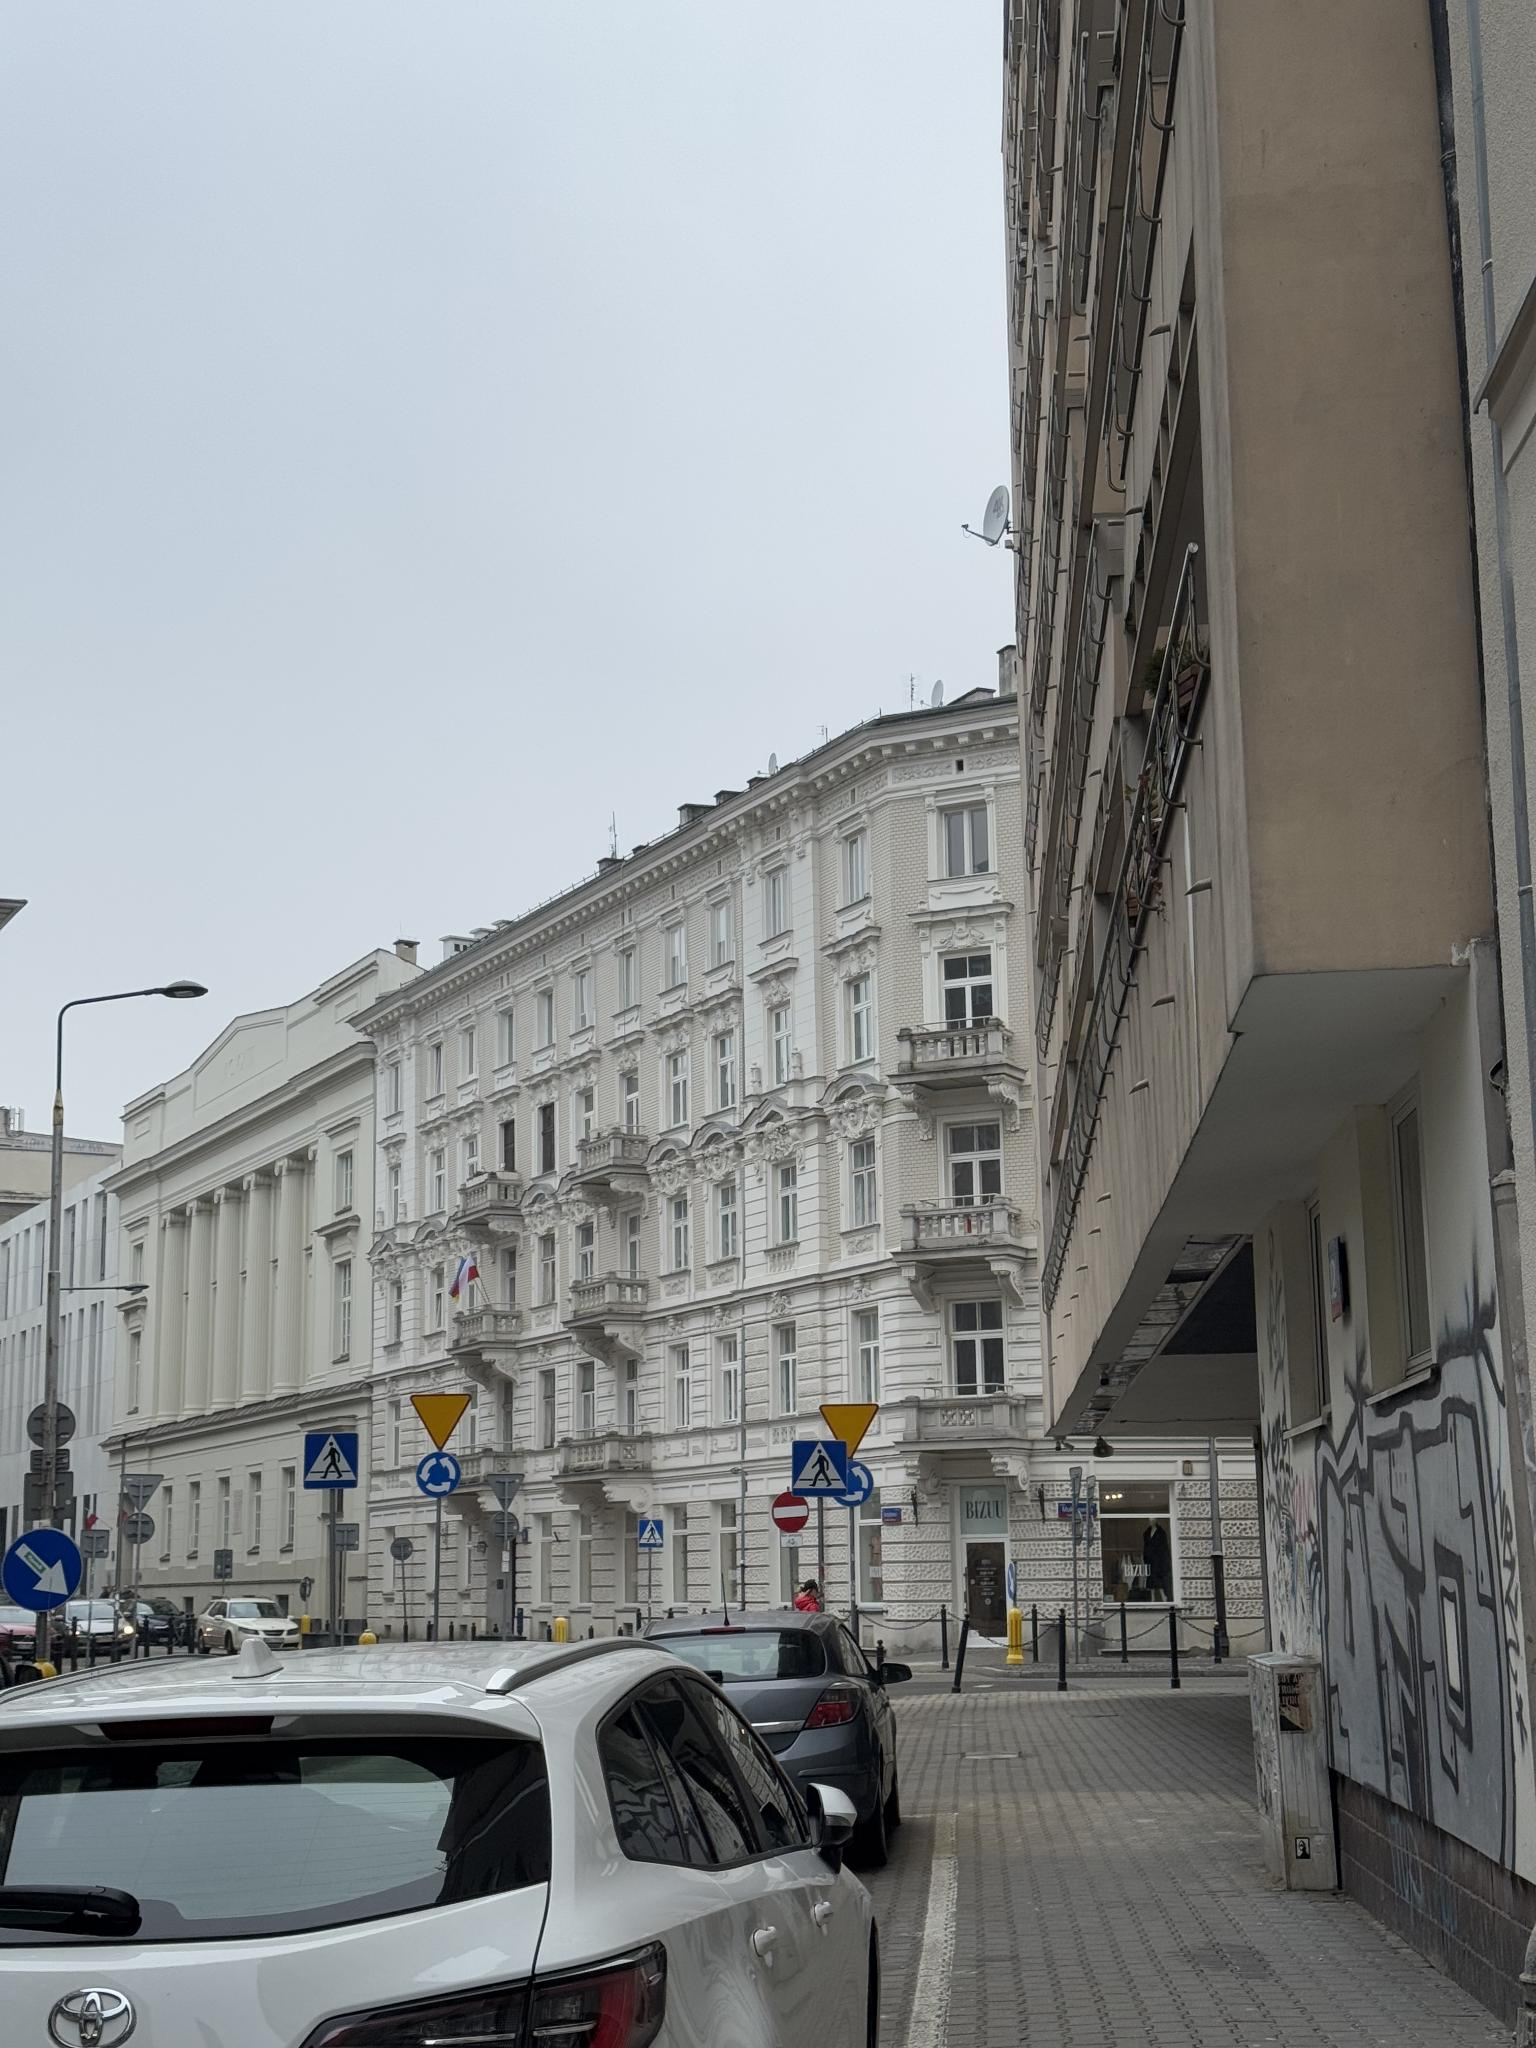information: (792, 1440, 846, 1496), (303, 1434, 357, 1488), (639, 1519, 663, 1547)
mandatory: (3, 1528, 83, 1614), (415, 1450, 464, 1498), (847, 1459, 875, 1507), (1008, 1562, 1016, 1600)
prohibitory: (771, 1491, 809, 1533)
warning: (410, 1392, 474, 1452), (819, 1403, 879, 1459)
